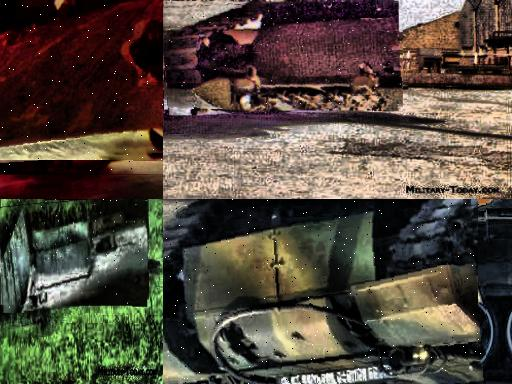tanks: (164, 200, 485, 384), (275, 200, 512, 381), (164, 2, 404, 113), (1, 1, 164, 163), (1, 201, 150, 313)
